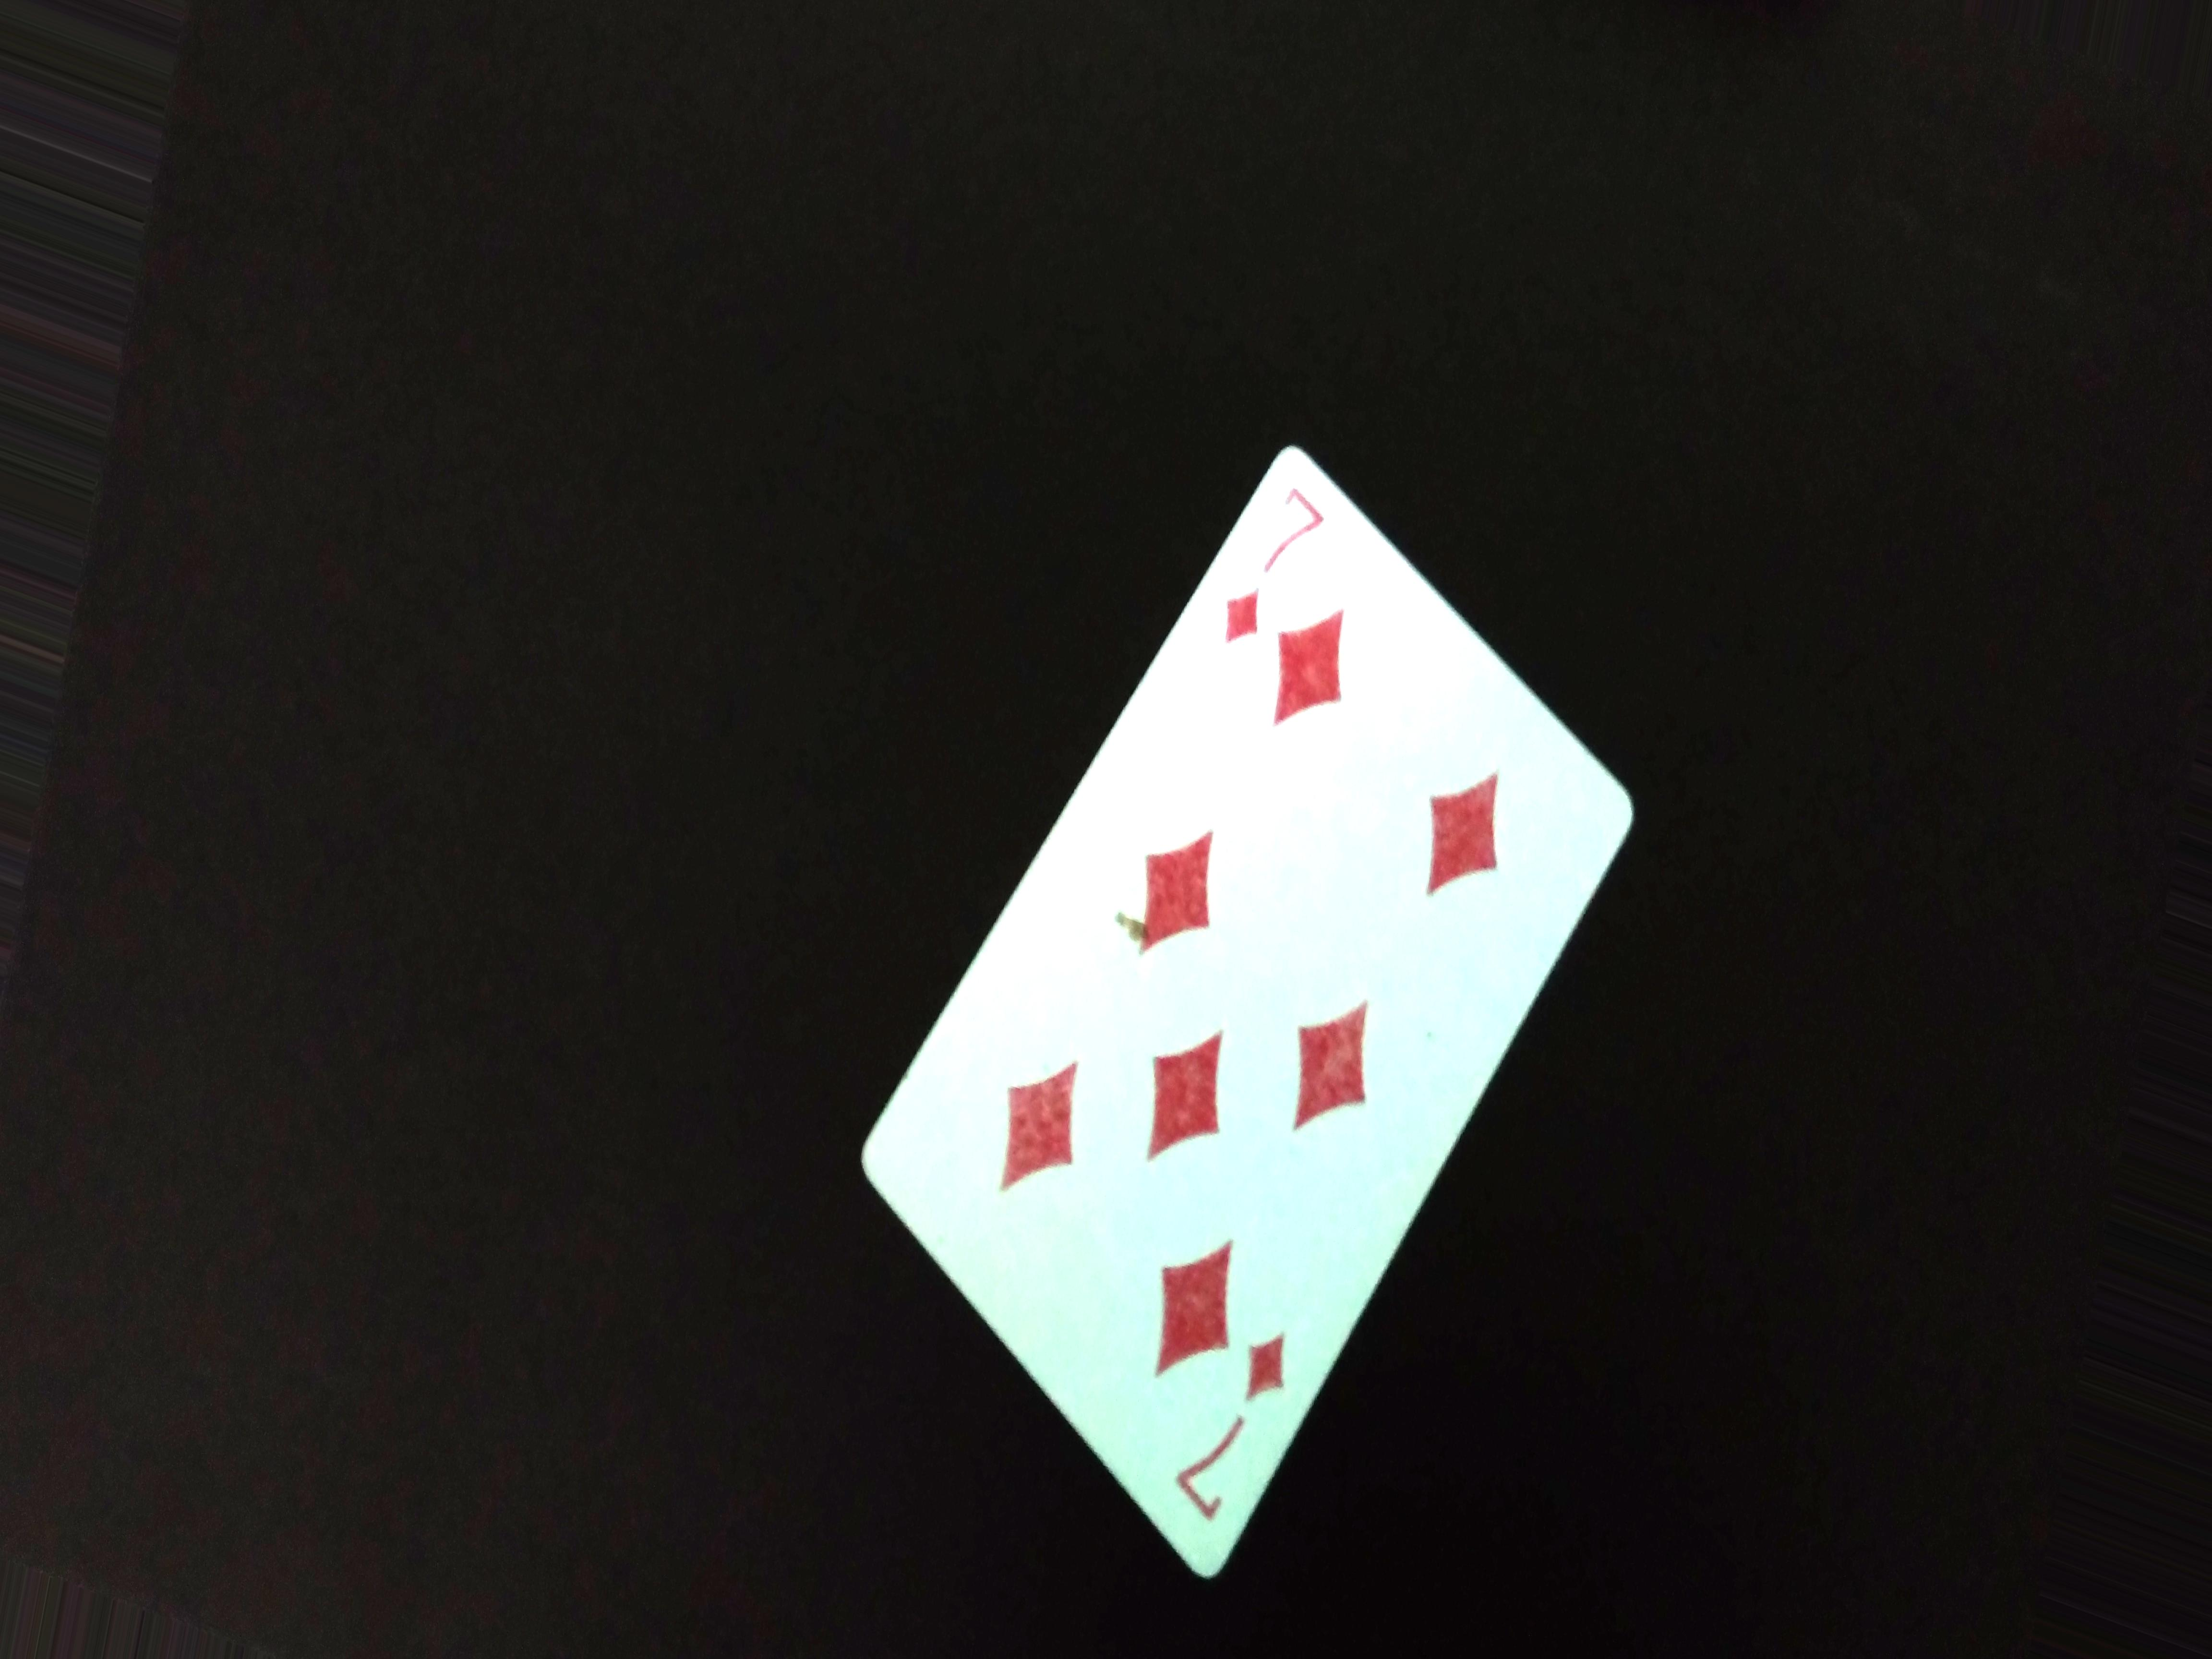7D: (1216, 469, 1348, 674)
